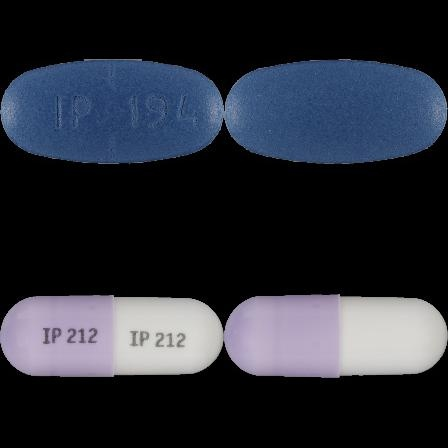0904-6186: (0, 0, 224, 224)
